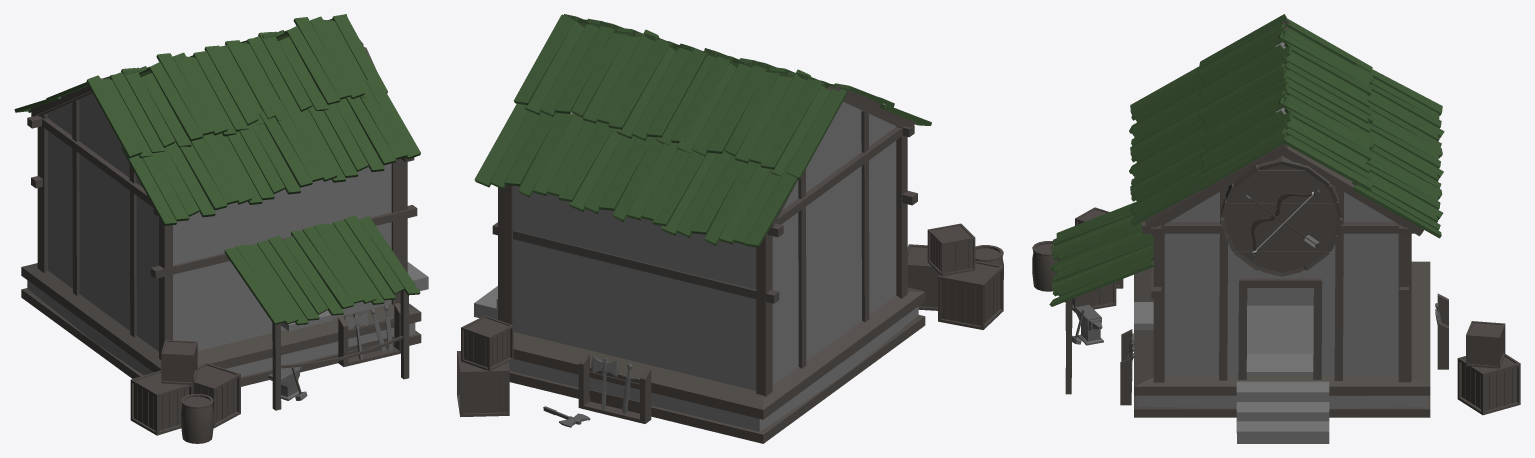
Rendered from product_2lv(bow).fbx.
3 views of the same model, side by side, from view 1: azimuth 30°, elevation 25°; view 2: azimuth 150°, elevation 25°; view 3: azimuth 270°, elevation 25° (orthographic). The views are drawn at different scales.
Visible parts, largest first — view 1: product_2_bow; view 2: product_2_bow; view 3: product_2_bow.
Part boxes in pixels (bbox=[...]): product_2_bow: bbox=[14, 14, 428, 443]; product_2_bow: bbox=[457, 14, 1003, 443]; product_2_bow: bbox=[1032, 14, 1520, 443].
Size of the model in its own units: 473 by 355 by 555.
